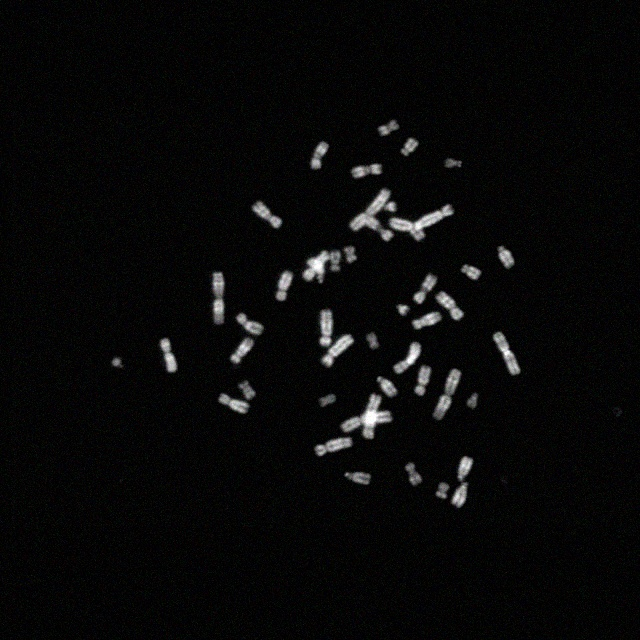chromosome: (350, 188, 390, 230), (434, 369, 461, 419), (494, 332, 520, 376), (412, 205, 453, 231), (340, 412, 392, 432), (322, 335, 354, 367), (302, 249, 330, 281), (388, 218, 424, 242), (436, 292, 464, 321), (394, 343, 421, 373), (362, 214, 393, 240), (252, 202, 282, 228), (364, 394, 381, 438), (316, 436, 352, 456), (413, 274, 437, 304), (213, 272, 225, 324), (160, 338, 178, 372), (218, 393, 250, 412), (231, 338, 254, 364), (237, 312, 263, 334), (412, 312, 442, 331), (311, 141, 329, 169), (319, 310, 333, 346), (276, 271, 292, 301), (415, 366, 431, 396), (306, 258, 324, 284), (352, 164, 382, 178), (452, 482, 468, 508), (377, 377, 397, 397), (497, 246, 515, 268), (406, 462, 422, 486), (238, 381, 256, 401), (378, 120, 400, 136), (457, 458, 473, 480), (462, 264, 482, 280), (402, 138, 418, 156), (346, 472, 370, 484), (330, 251, 340, 273), (436, 482, 448, 500), (367, 332, 379, 350), (345, 247, 357, 263), (467, 393, 478, 409), (320, 394, 334, 406), (382, 201, 396, 213), (445, 158, 461, 168), (397, 304, 409, 316), (112, 358, 123, 368)
